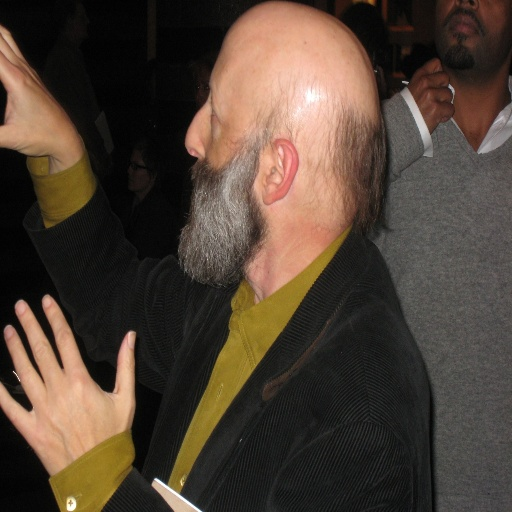hand: (4, 295, 142, 490), (0, 21, 77, 162), (406, 54, 454, 136)
